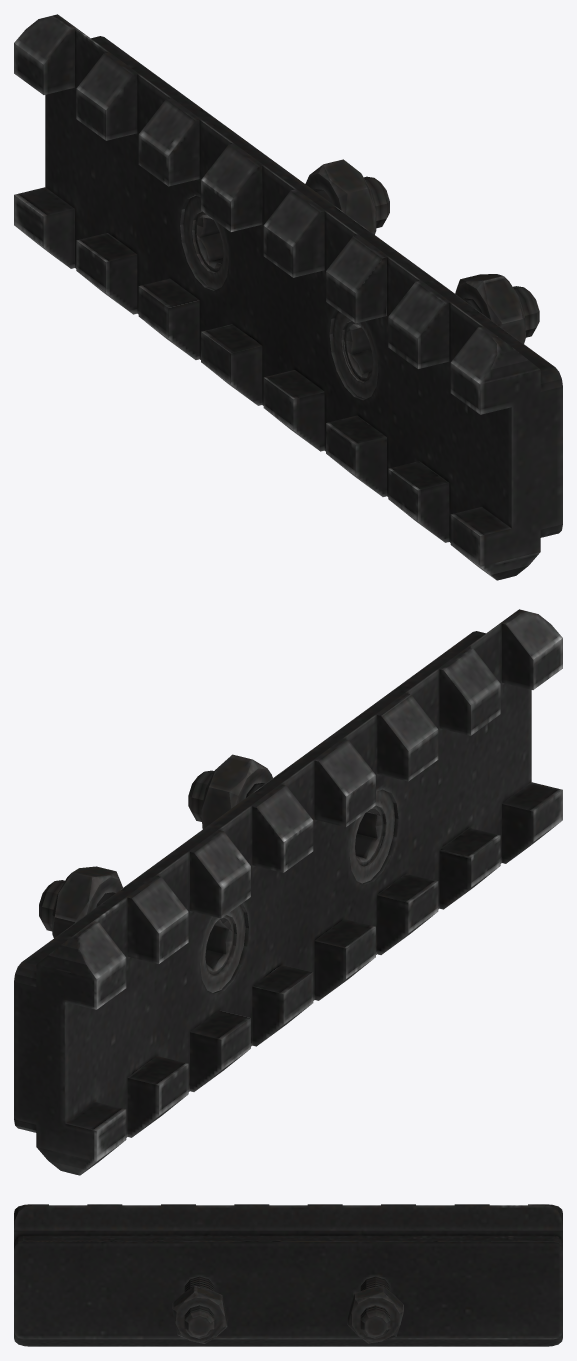
3 views of the same model, one above another, from view 1: azimuth 30°, elevation 25°; view 2: azimuth 150°, elevation 25°; view 3: azimuth 270°, elevation 25° (orthographic). The views are drawn at different scales.
Visible parts, largest first — view 1: TW_62ed1921b3608410ef5a2c04_PZ_Import; view 2: TW_62ed1921b3608410ef5a2c04_PZ_Import; view 3: TW_62ed1921b3608410ef5a2c04_PZ_Import.
Boxes of the visible parts, x1,y1,x2,y2 form: TW_62ed1921b3608410ef5a2c04_PZ_Import: [14, 14, 562, 580]; TW_62ed1921b3608410ef5a2c04_PZ_Import: [14, 609, 562, 1175]; TW_62ed1921b3608410ef5a2c04_PZ_Import: [14, 1204, 562, 1346].
Bounding box in the file's own units: 0.0111 × 0.0433 × 0.0122.
1 material, 1 textured.
